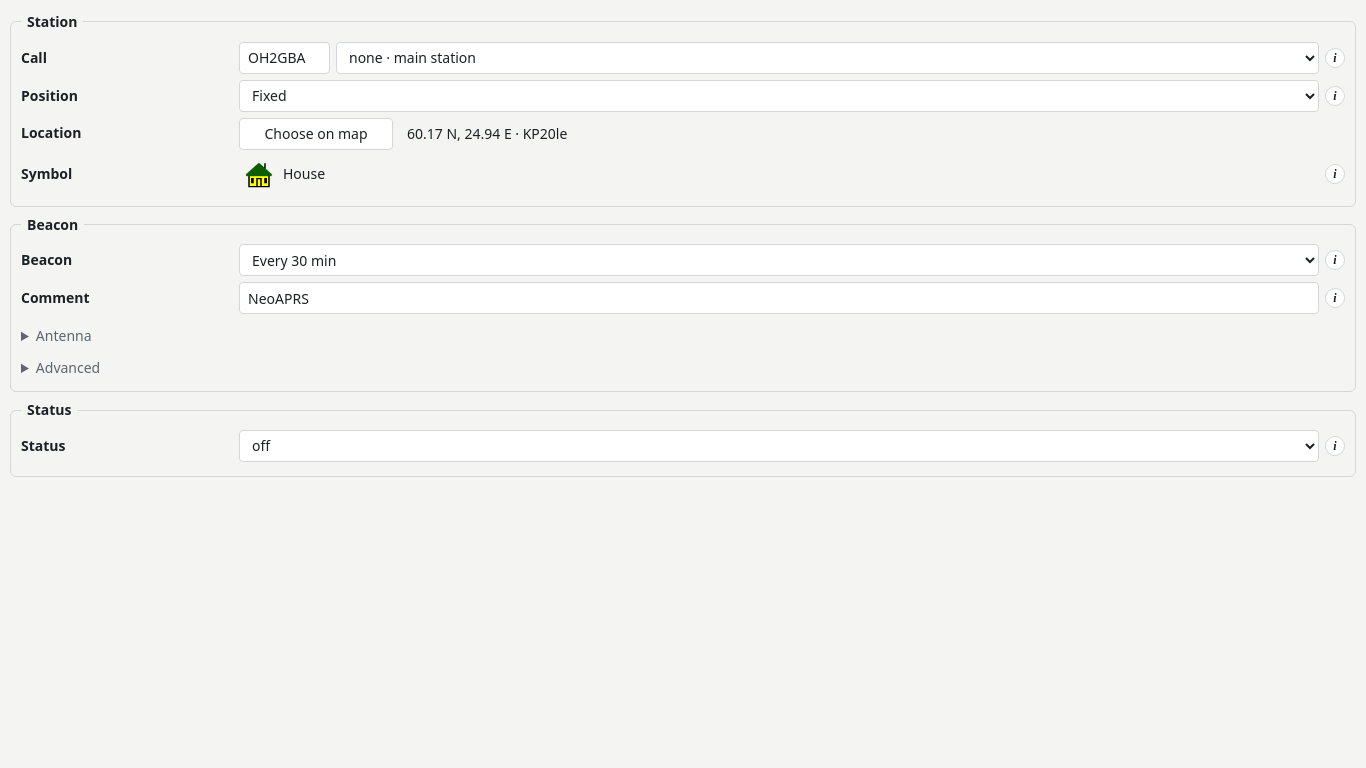
it: the Status group › asks for the text and how often when the choice is a text of my own
This screenshot has width=1366, height=768.
Select "a text of my own" in the dropdown with id "set-status-source" at (779, 446), box x1=239 y1=430 x2=1319 y2=462
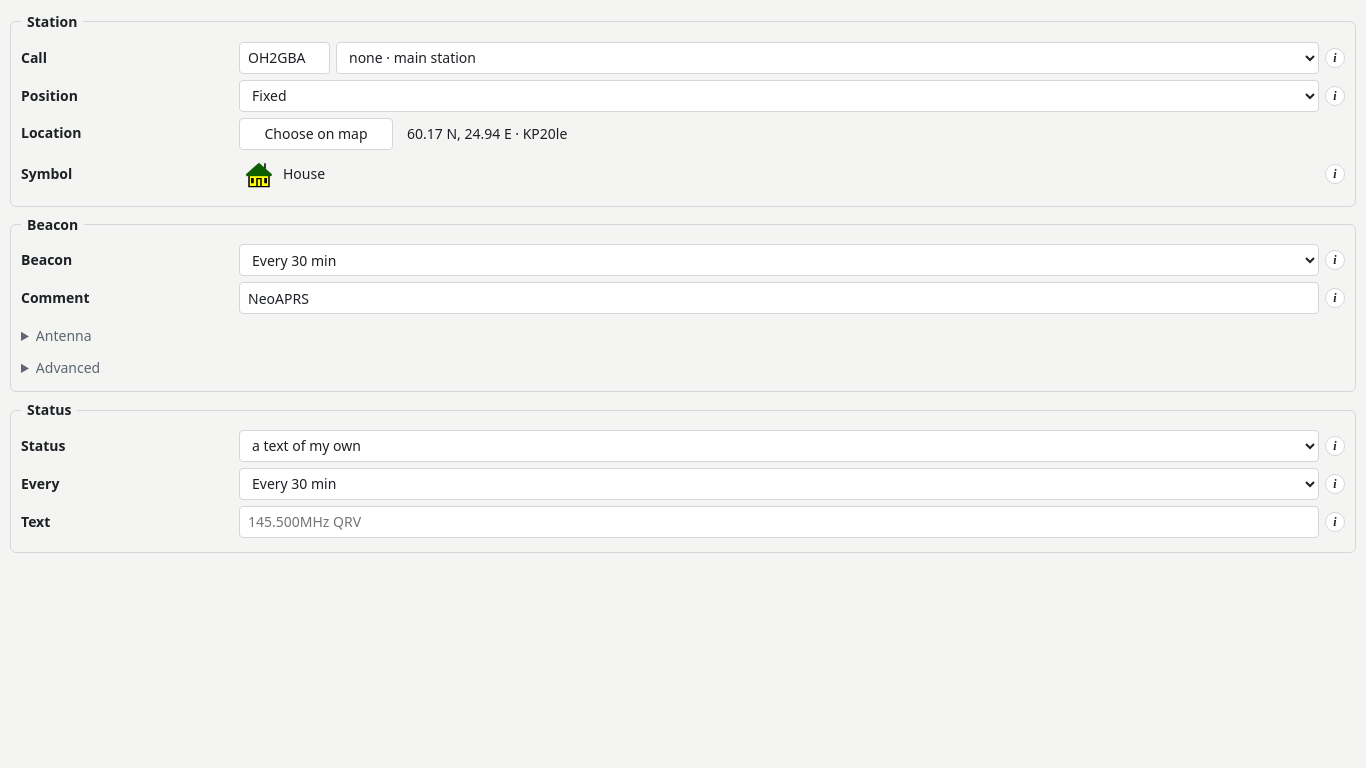
Expected: the field with id "set-station-status" is shown, x1=239 y1=506 x2=1319 y2=538
